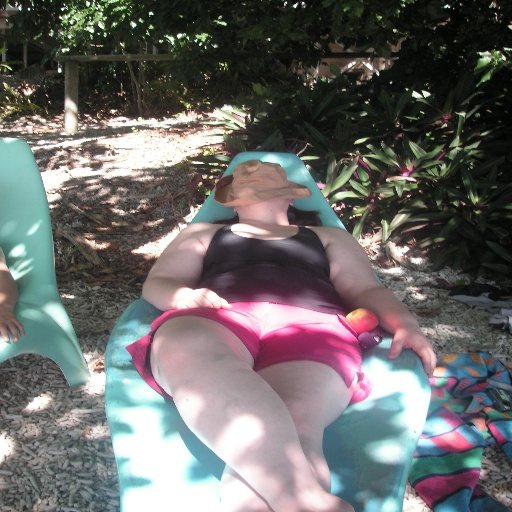hand: (348, 282, 440, 377), (171, 286, 236, 312), (0, 304, 26, 344)
